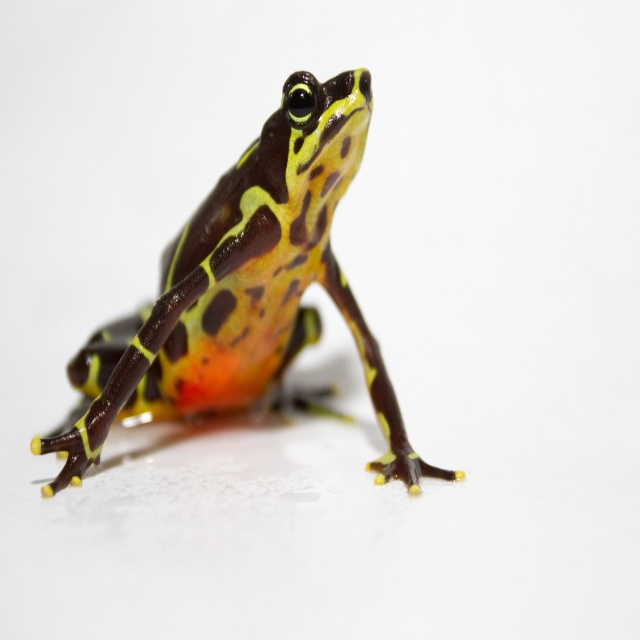Frog: (30, 66, 466, 497)
